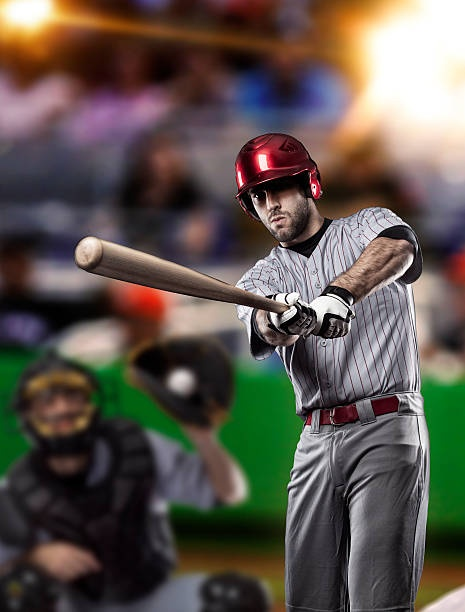bita: (77, 238, 319, 319)
